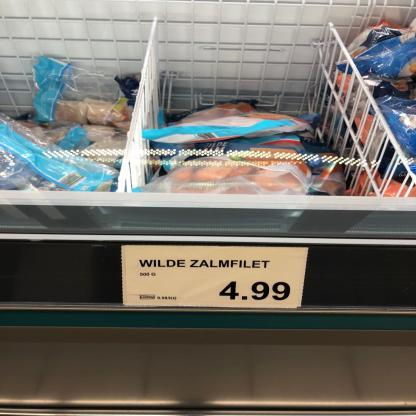prtg: (121, 246, 313, 310)
